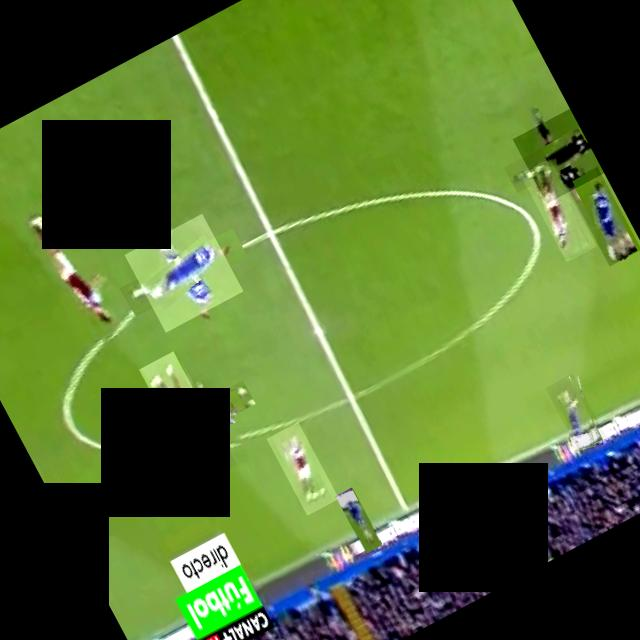referee: (512, 108, 604, 203)
soccer-player: (15, 190, 134, 350), (124, 213, 243, 332), (138, 350, 230, 474), (144, 366, 250, 472), (519, 157, 596, 261), (565, 166, 640, 266), (266, 421, 339, 515), (545, 372, 607, 452), (336, 487, 382, 552)
